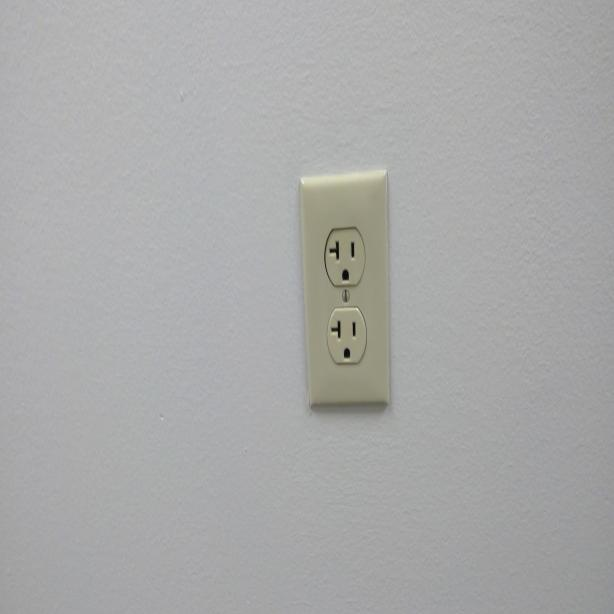typeb: (323, 225, 366, 288), (324, 310, 366, 364)
